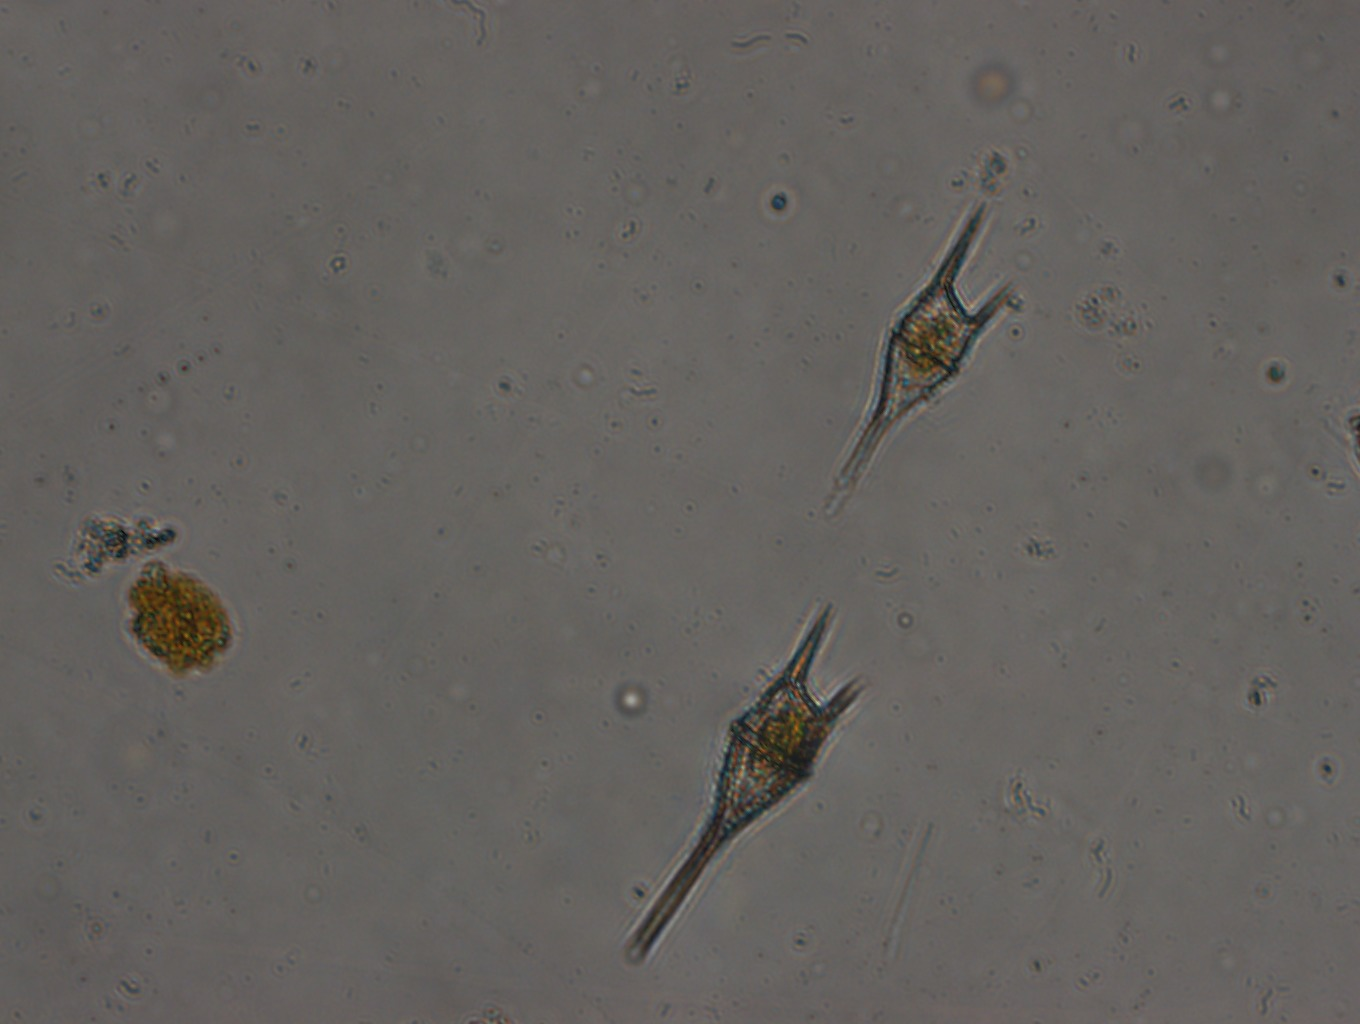ceratium furca: (624, 597, 870, 968), (824, 195, 1027, 528)
